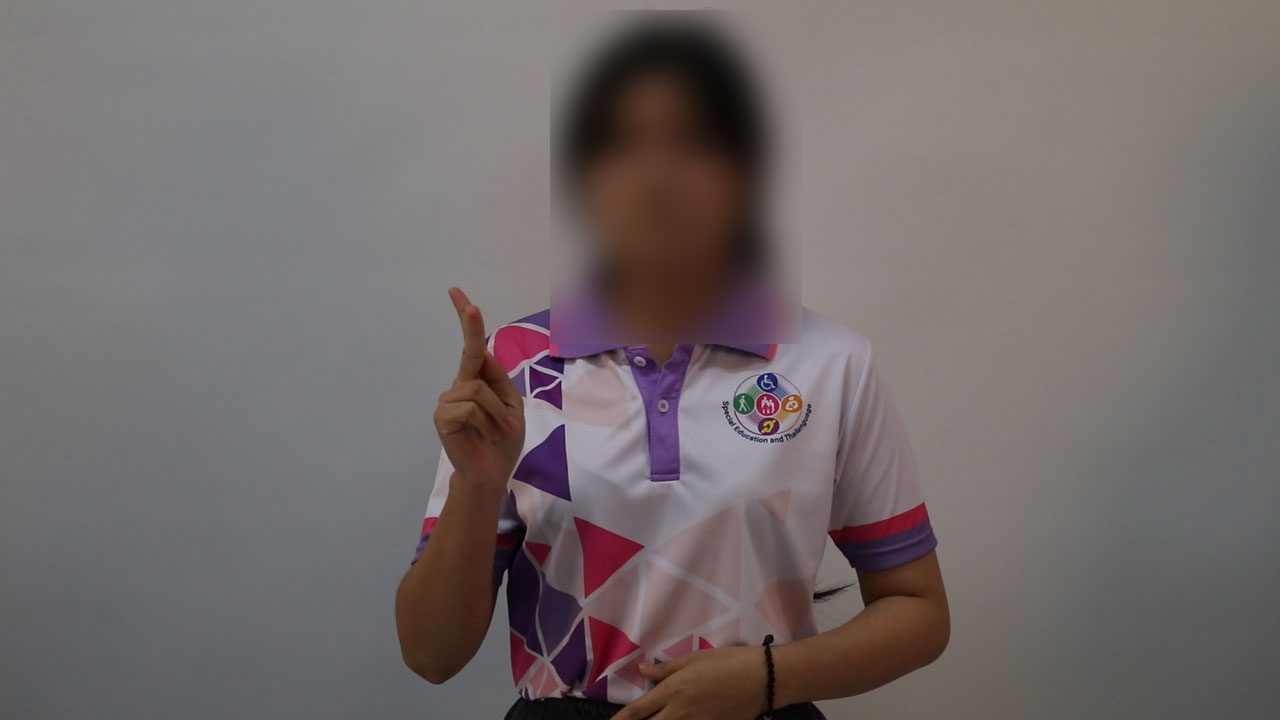ko: (416, 278, 547, 486)
